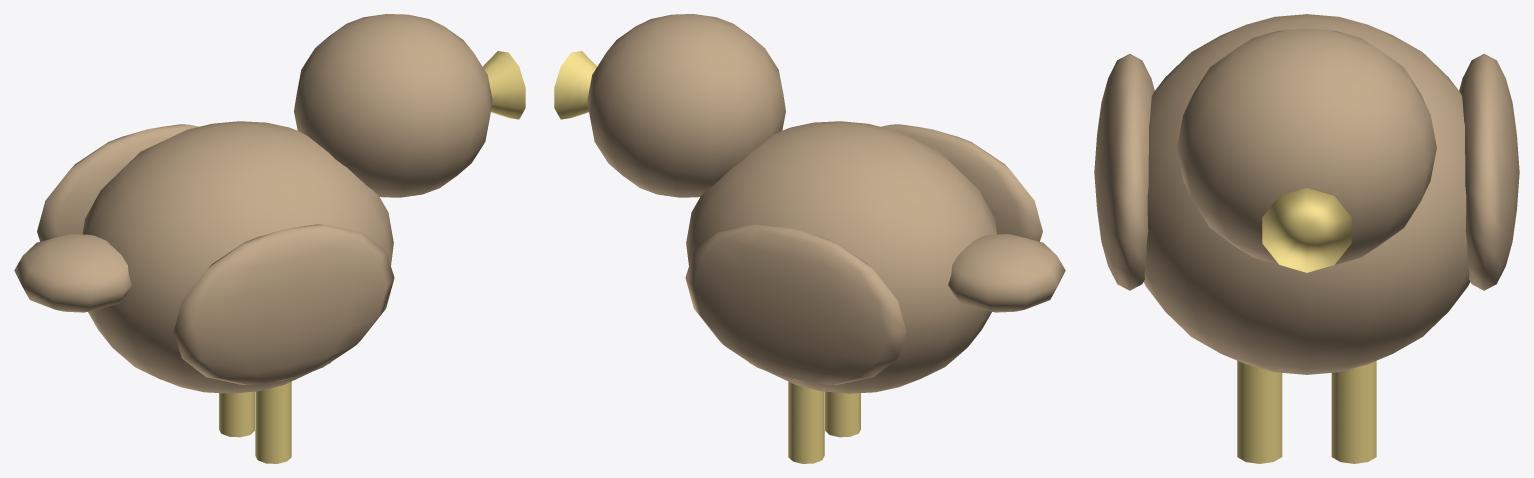
File: owl.glb
3 views of the same model, side by side, from view 1: azimuth 30°, elevation 25°; view 2: azimuth 150°, elevation 25°; view 3: azimuth 270°, elevation 25° (orthographic). The views are drawn at different scales.
Visible parts, largest first — view 1: Body, Head, WingLeft, Tail, WingRight, LegLeft, Beak, LegRight; view 2: Body, Head, WingRight, Tail, WingLeft, LegRight, Beak, LegLeft; view 3: Body, Head, WingLeft, WingRight, Beak, LegLeft, LegRight.
Boxes of the visible parts, x1=… form: Body: x1=82, y1=121, x2=393, y2=393; Head: x1=294, y1=14, x2=492, y2=197; WingLeft: x1=173, y1=224, x2=394, y2=385; Tail: x1=14, y1=234, x2=131, y2=312; WingRight: x1=37, y1=124, x2=198, y2=241; LegLeft: x1=255, y1=381, x2=291, y2=463; Beak: x1=483, y1=51, x2=525, y2=119; LegRight: x1=219, y1=391, x2=254, y2=437; Body: x1=686, y1=121, x2=997, y2=393; Head: x1=587, y1=14, x2=785, y2=197; WingRight: x1=685, y1=224, x2=906, y2=385; Tail: x1=948, y1=234, x2=1065, y2=312; WingLeft: x1=881, y1=124, x2=1042, y2=241; LegRight: x1=788, y1=381, x2=824, y2=463; Beak: x1=554, y1=51, x2=596, y2=119; LegLeft: x1=825, y1=391, x2=860, y2=437; Body: x1=1143, y1=14, x2=1470, y2=374; Head: x1=1177, y1=28, x2=1436, y2=264; WingLeft: x1=1094, y1=54, x2=1154, y2=290; WingRight: x1=1459, y1=54, x2=1519, y2=290; Beak: x1=1262, y1=188, x2=1351, y2=272; LegLeft: x1=1237, y1=361, x2=1282, y2=463; LegRight: x1=1331, y1=361, x2=1376, y2=463.
Size of the model in its own units: 1.42 by 1.09 by 0.828.
